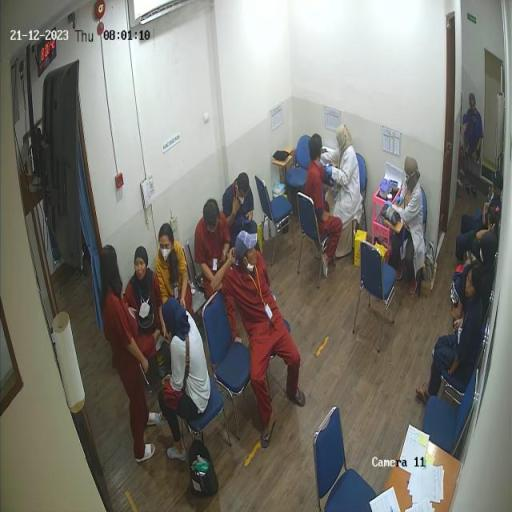person: (223, 233, 308, 449), (102, 247, 157, 464), (416, 264, 485, 403), (159, 299, 212, 461), (124, 247, 170, 384), (382, 156, 427, 293), (307, 134, 344, 269), (456, 171, 504, 266), (451, 233, 496, 332), (155, 224, 197, 330), (196, 200, 236, 299), (325, 125, 362, 231), (224, 173, 259, 252), (464, 207, 500, 269), (461, 93, 484, 172)
